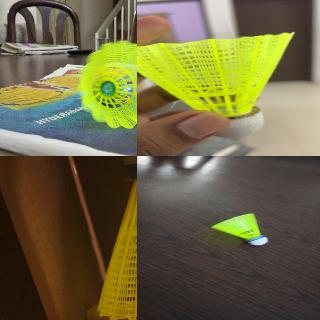shuttlecock: (137, 31, 294, 138), (97, 156, 136, 319), (78, 40, 136, 129), (210, 213, 268, 246)
